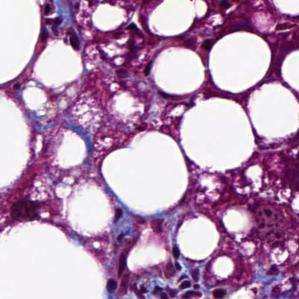inflammation: (98, 20, 147, 69), (144, 271, 206, 299), (42, 14, 65, 37), (266, 263, 279, 276)
